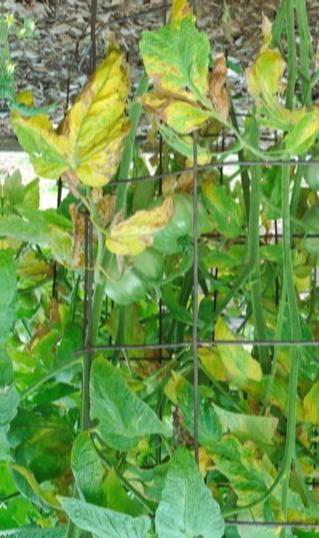Tomato Early blight leaf: (138, 0, 228, 132), (240, 22, 319, 153), (61, 55, 129, 190), (107, 182, 179, 260), (212, 318, 262, 382), (298, 379, 319, 430)
Tomato leaf: (87, 360, 156, 455), (155, 439, 221, 538), (58, 503, 148, 538)
